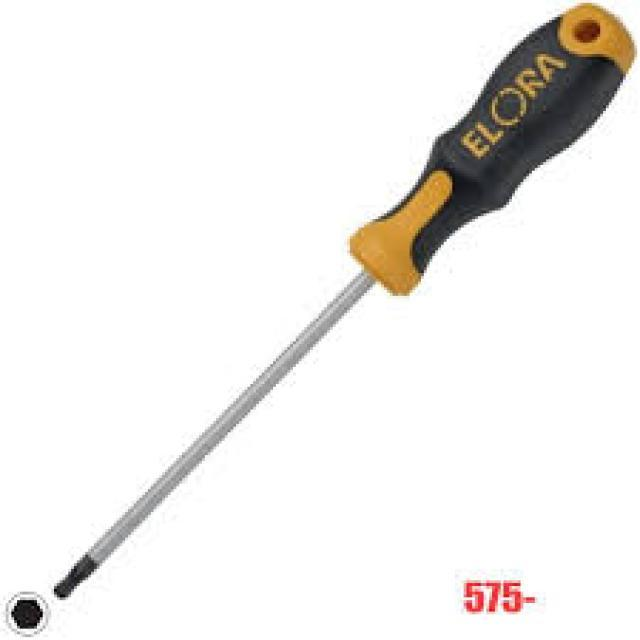screwdriver: (54, 0, 640, 603)
